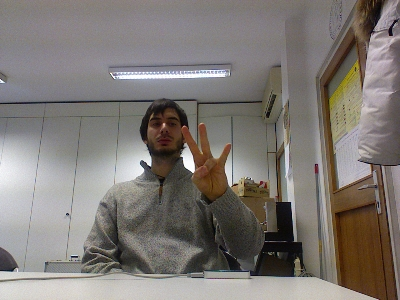观音: (180, 123, 231, 196)
